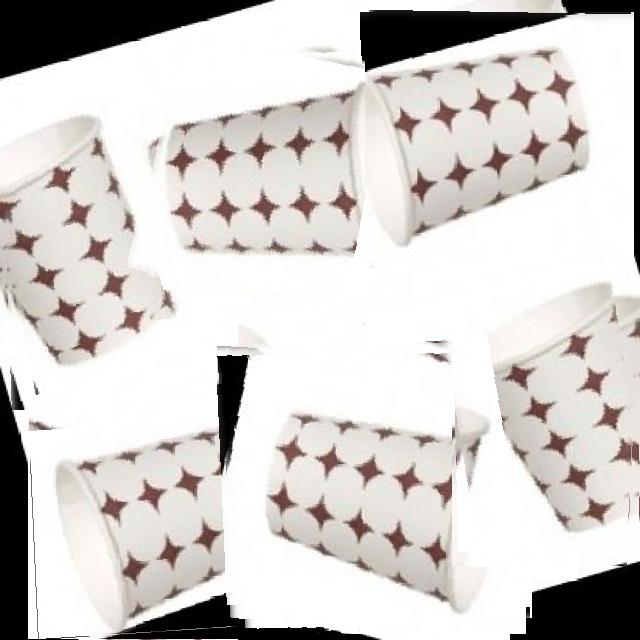non-biodegradable: (222, 330, 526, 634), (134, 40, 412, 320), (365, 5, 630, 269), (0, 90, 210, 410), (27, 395, 272, 640), (452, 275, 640, 566)
